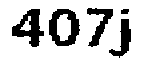0: (49, 9, 82, 51)
4: (10, 5, 45, 48)
7: (85, 7, 113, 49)
j: (112, 8, 139, 60)
